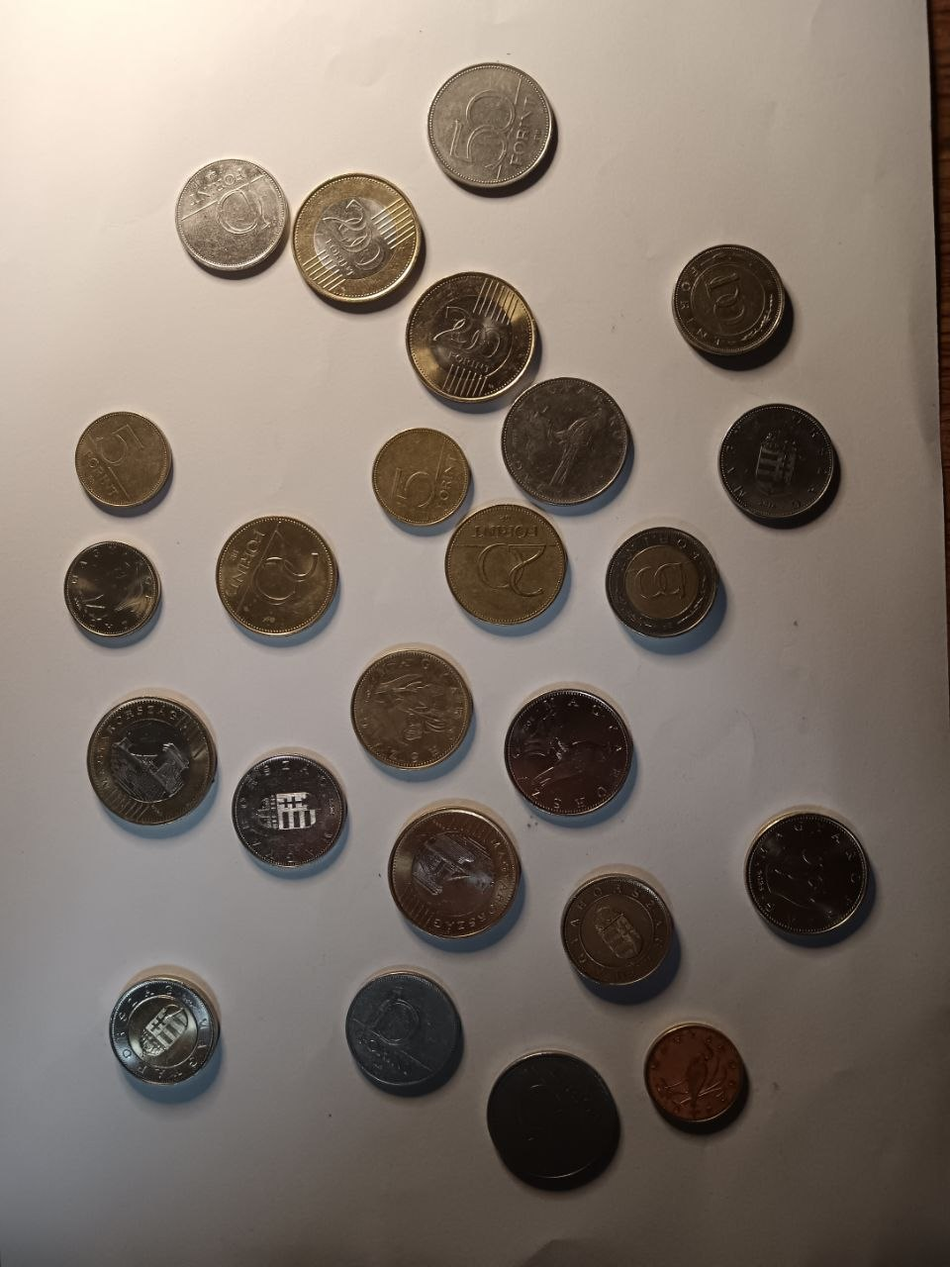100ft: (561, 875, 675, 987), (674, 245, 785, 353), (607, 527, 718, 634), (107, 979, 220, 1083)
10ft: (346, 972, 462, 1089), (177, 158, 288, 274), (723, 406, 836, 517), (232, 755, 342, 865)
200ft: (388, 807, 521, 936), (90, 699, 212, 828), (298, 174, 418, 303), (412, 273, 528, 398)
20ft: (746, 812, 871, 937), (448, 504, 564, 625), (351, 653, 468, 771), (220, 517, 333, 634)
50ft: (486, 1050, 617, 1182), (508, 689, 631, 821), (429, 62, 556, 187), (506, 378, 625, 502)
5ft: (644, 1024, 743, 1124), (74, 413, 174, 506), (63, 541, 159, 637), (373, 429, 466, 523)
